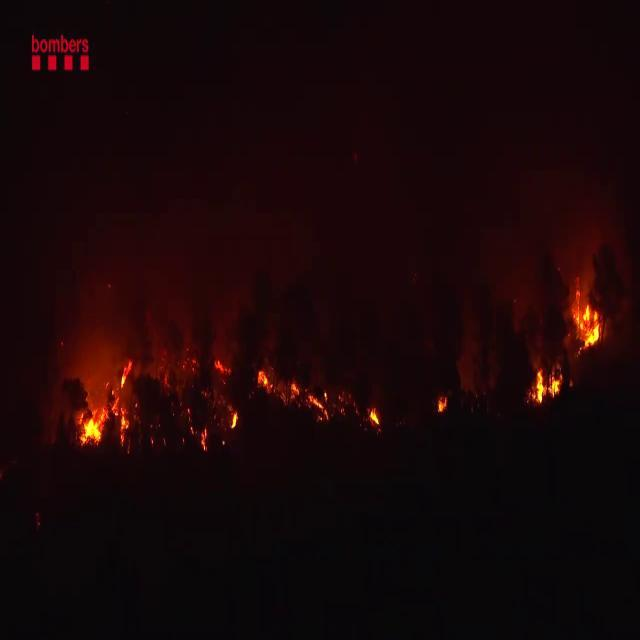Fire: (570, 276, 604, 354), (530, 359, 562, 408), (77, 402, 106, 450)
Smoke: (74, 244, 258, 392)
